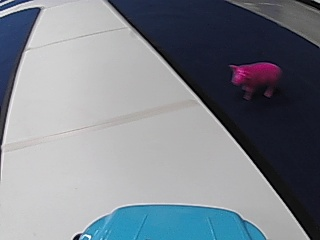pig: (226, 57, 282, 100)
